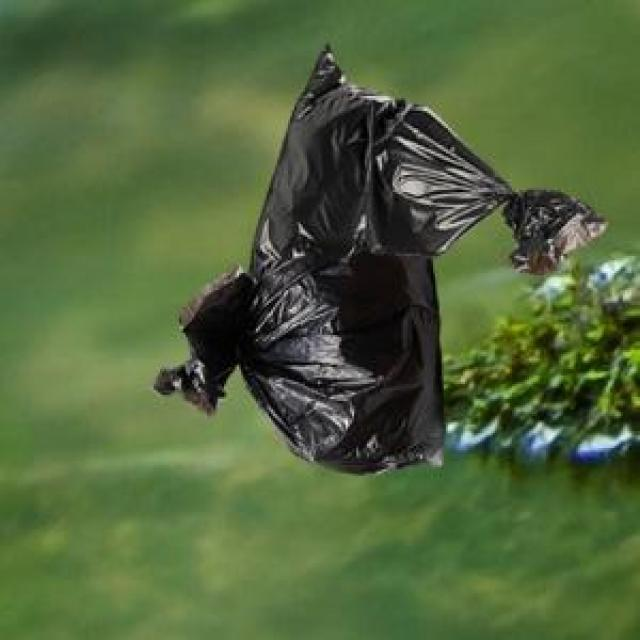waste: (254, 51, 607, 270), (169, 253, 455, 474)
